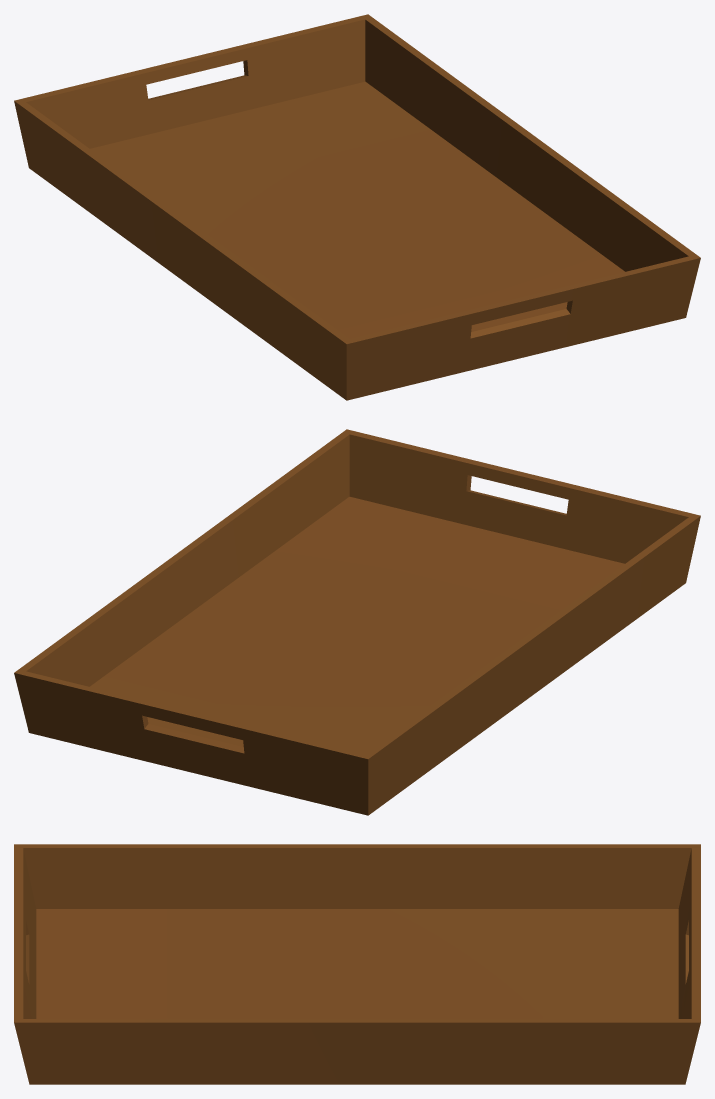
The model's file is FoodProp_4_1_B.fbx.
3 renders of one model, top to bottom at view 1: azimuth 30°, elevation 25°; view 2: azimuth 150°, elevation 25°; view 3: azimuth 270°, elevation 25°, orthographic. The views are drawn at different scales.
Parts seen in each view (by area): view 1: FoodProp_4_1_B; view 2: FoodProp_4_1_B; view 3: FoodProp_4_1_B.
Boxes of the visible parts, left/top/right/bottom form: FoodProp_4_1_B: left=14, top=14, right=700, bottom=400; FoodProp_4_1_B: left=14, top=429, right=700, bottom=815; FoodProp_4_1_B: left=14, top=844, right=700, bottom=1084.
Size of the model in its own units: 37.22 by 6.4 by 60.57.
